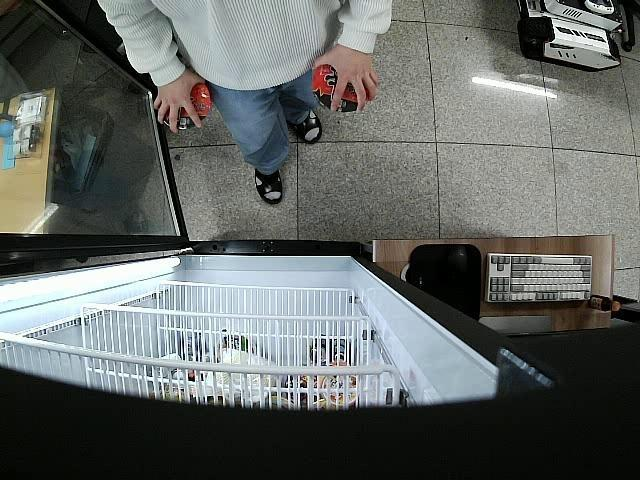01_ShinRamen_L: (312, 68, 372, 114), (163, 84, 211, 132)
